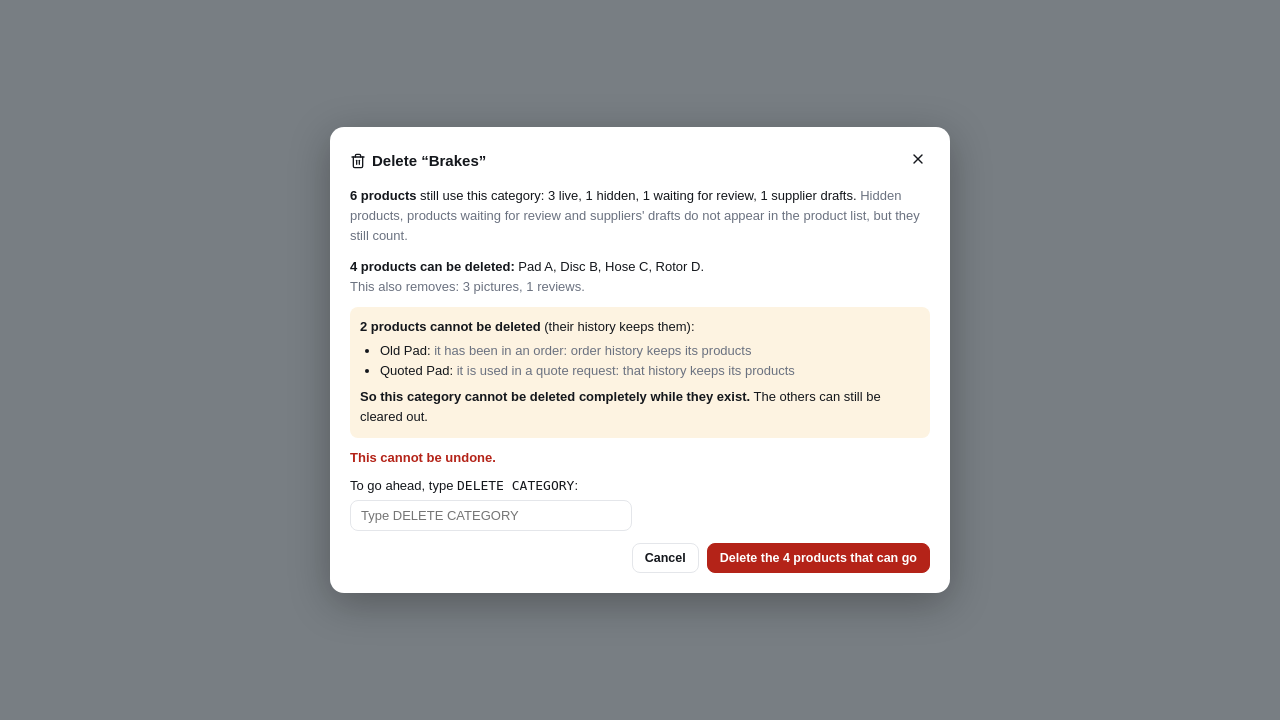
Test: clearing it out › when nothing was removed the page behind is not refreshed
Type "DELETE CATEGORY" into the field named "Type to confirm". click: (491, 515)
box: [350,500,632,531]
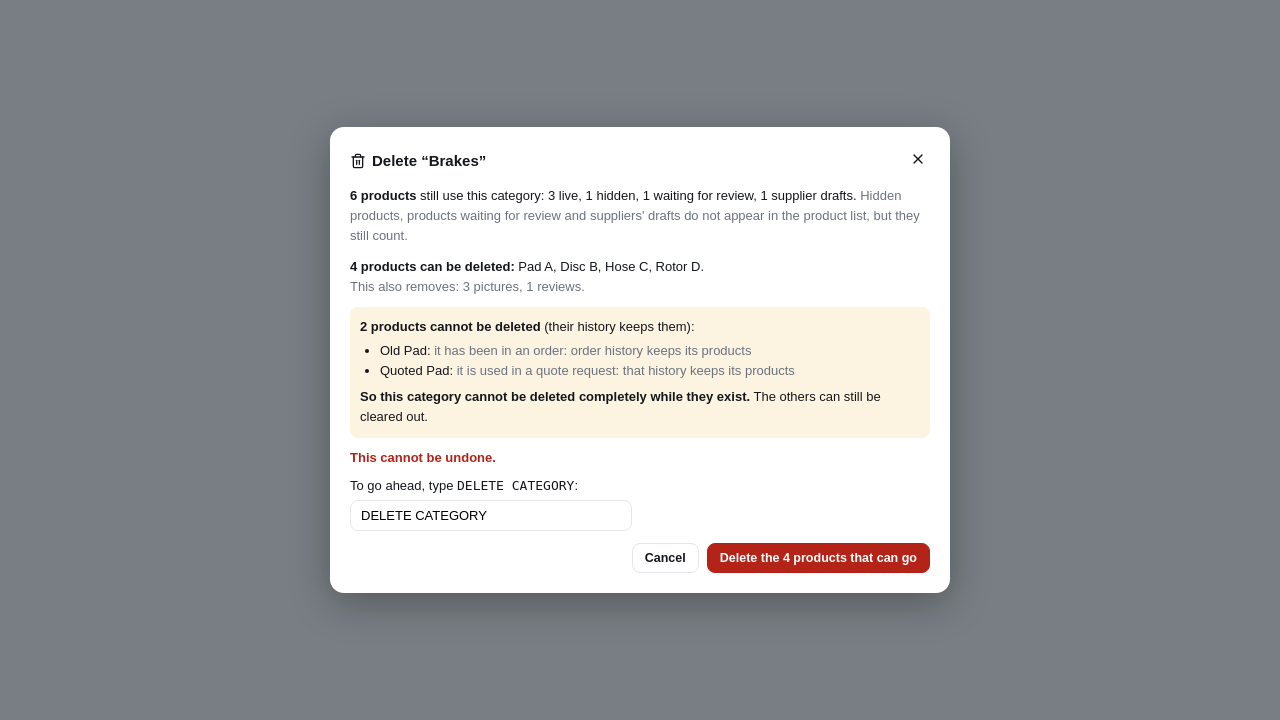
Click the button "Delete the 4 products that can go". click: (818, 558)
box: [707,543,930,573]
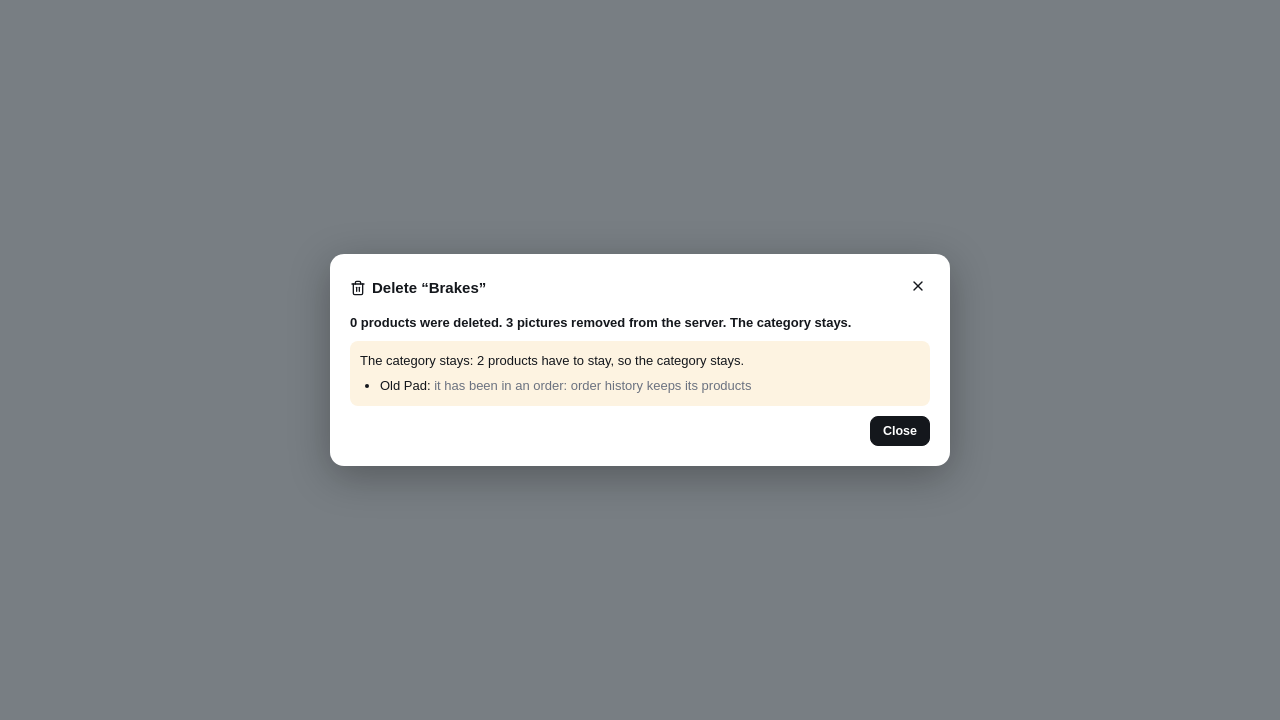
Check: the text "0 products were deleted." is shown, box [350,313,930,333]
